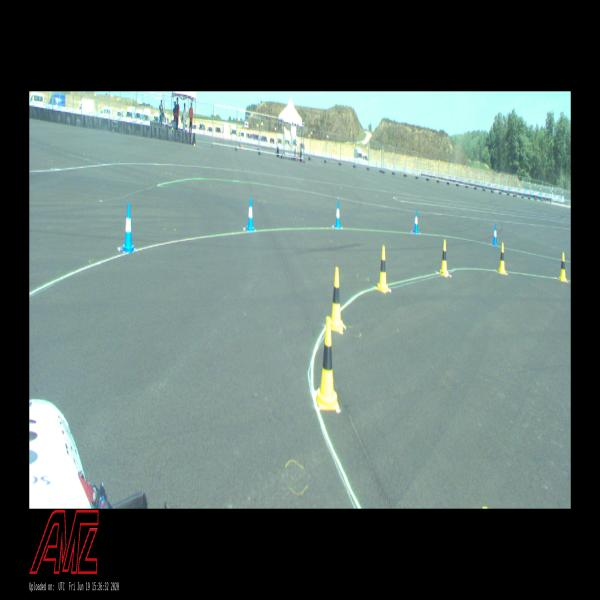blue_cone: (120, 204, 136, 252), (246, 197, 255, 231), (334, 202, 340, 228), (492, 224, 497, 246), (414, 210, 418, 234)
yellow_cone: (316, 316, 340, 409), (331, 268, 343, 332), (378, 246, 389, 291), (439, 240, 448, 274), (498, 244, 506, 274), (558, 253, 566, 281)
